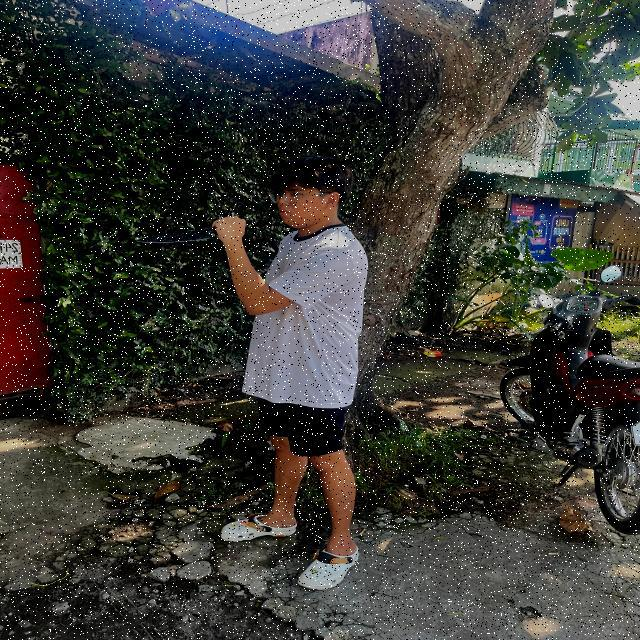knife: (136, 156, 367, 590), (136, 226, 217, 243)
